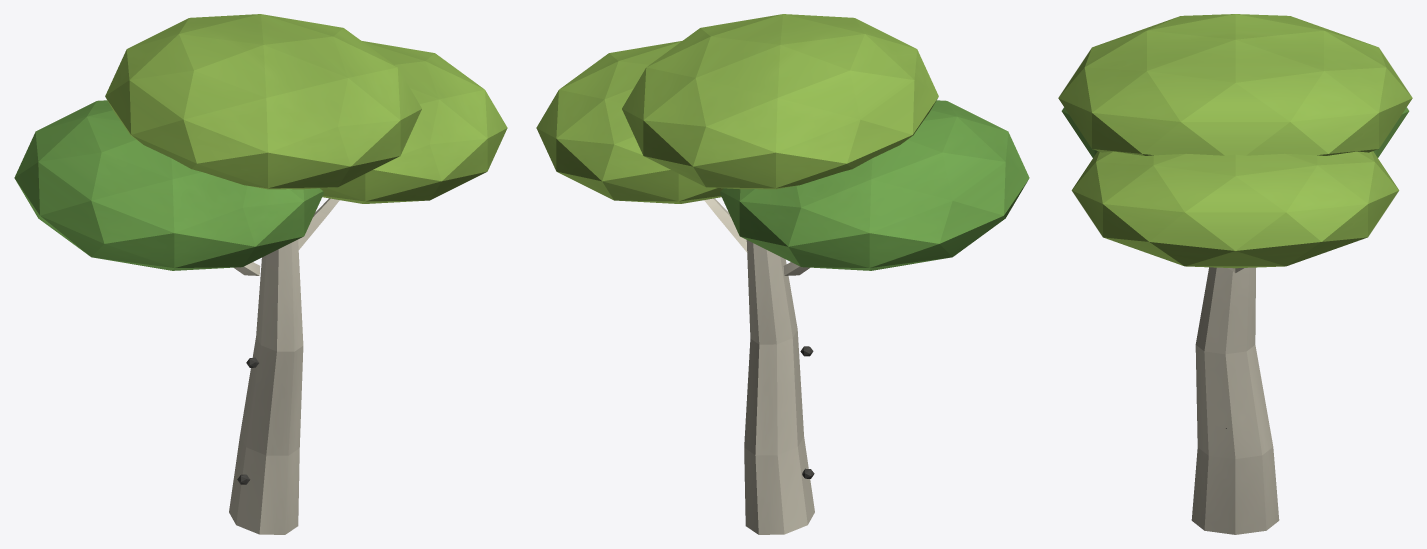
Rendered from boom_berk.glb.
3 views of the same model, side by side, from view 1: azimuth 30°, elevation 25°; view 2: azimuth 150°, elevation 25°; view 3: azimuth 270°, elevation 25° (orthographic).
Parts seen in each view (by area): view 1: world; view 2: world; view 3: world.
Boxes of the visible parts, bbox=[...] form: world: bbox=[14, 14, 507, 534]; world: bbox=[536, 14, 1029, 534]; world: bbox=[1058, 14, 1412, 534].
Size of the model in its own units: 6.84 by 7 by 4.67.
Materials: 1 (1 with a texture image).
